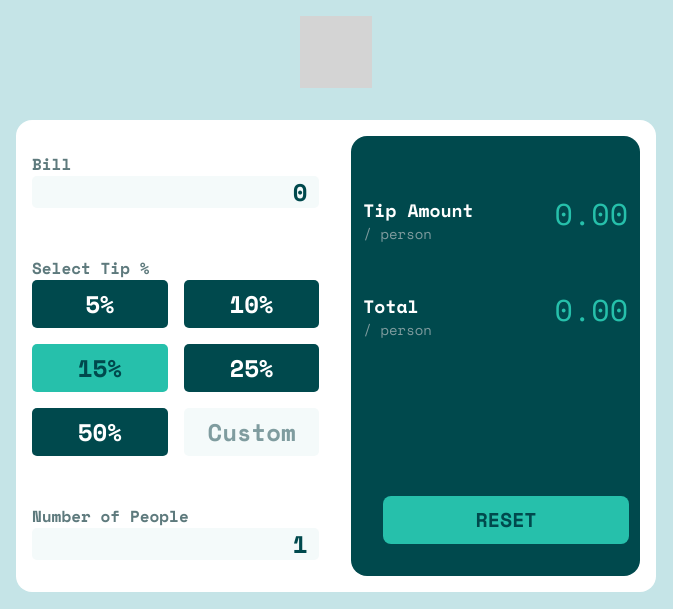
Test case: App › adds invalid class to each invalid input and shows error messages
The image size is (673, 609).
Type "-100" into the field labelled "Bill" at (176, 192), box [32,176,319,208]
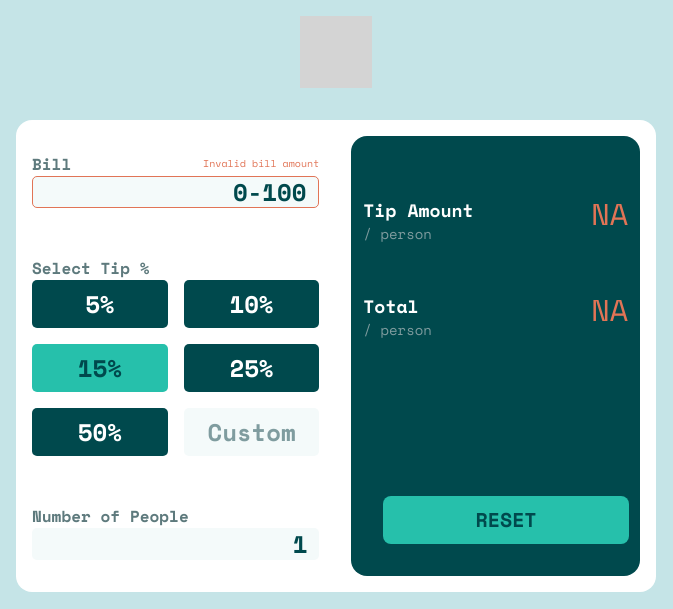
Type "1.5" into the field labelled "Number of People" at (176, 544), box [32,528,319,560]
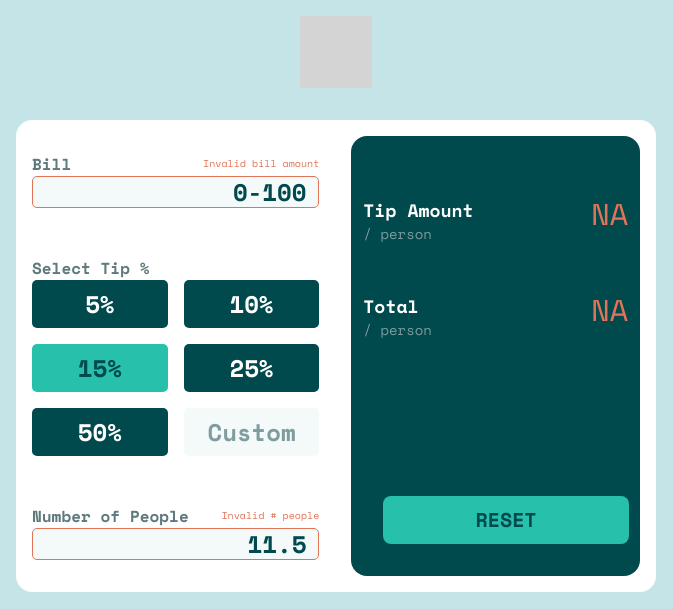
Click the radio button labelled "Custom" at (252, 432), box [184,408,319,456]
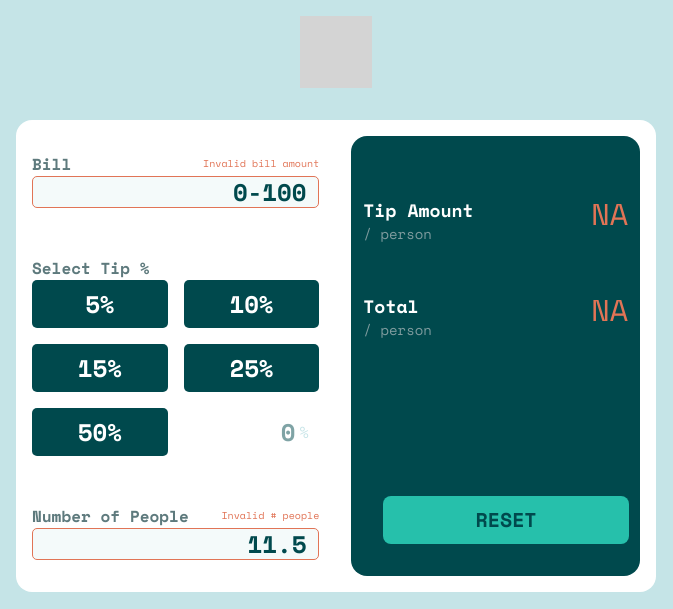
Type "abc" into the field labelled "Custom Input" at (252, 432), box [184,408,319,456]
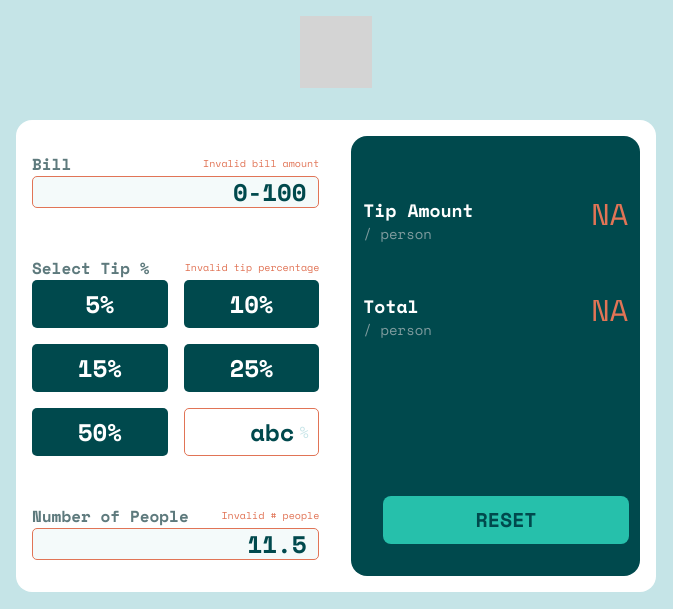
Result: the text "Invalid bill amount" is shown at [203,152,319,176]
Result: the text "Invalid # people" is shown at [221,504,319,528]
Result: the text "Invalid tip percentage" is shown at [185,256,319,280]
